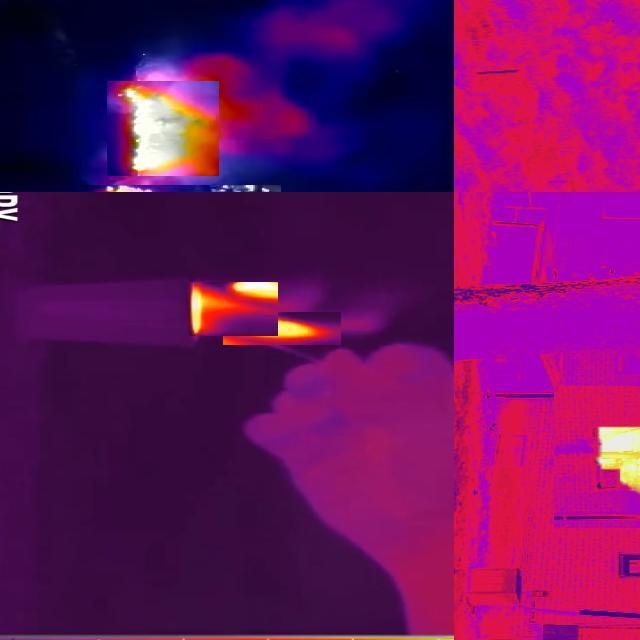fire: (553, 387, 640, 529), (107, 82, 219, 177), (188, 283, 278, 337), (223, 313, 341, 346)
